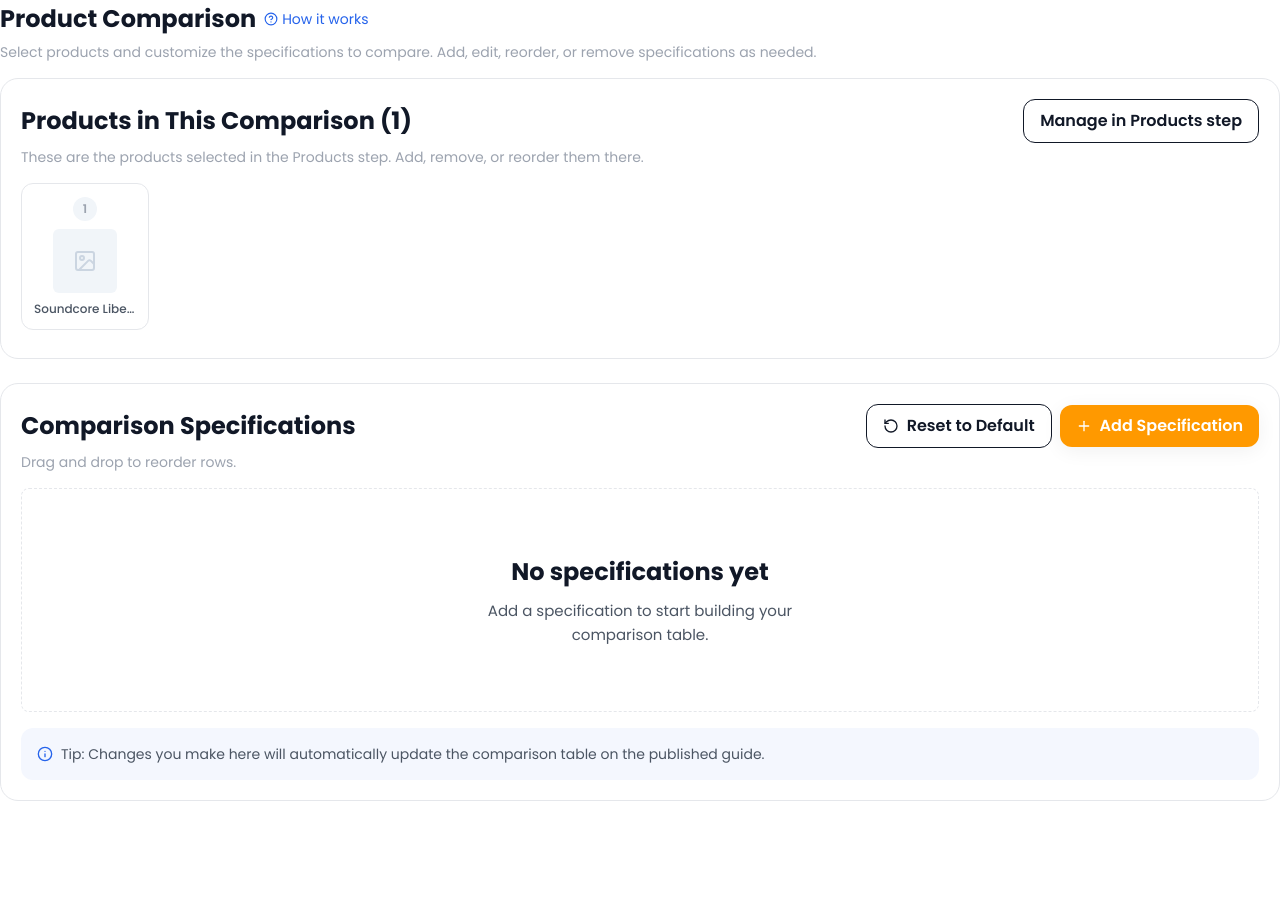
Test: BuyingGuideComparisonStep › toggles the How it works panel
Check: the text "each product appears as a column" is not shown
Click the button "How it works" at (316, 19), box [264,9,368,29]
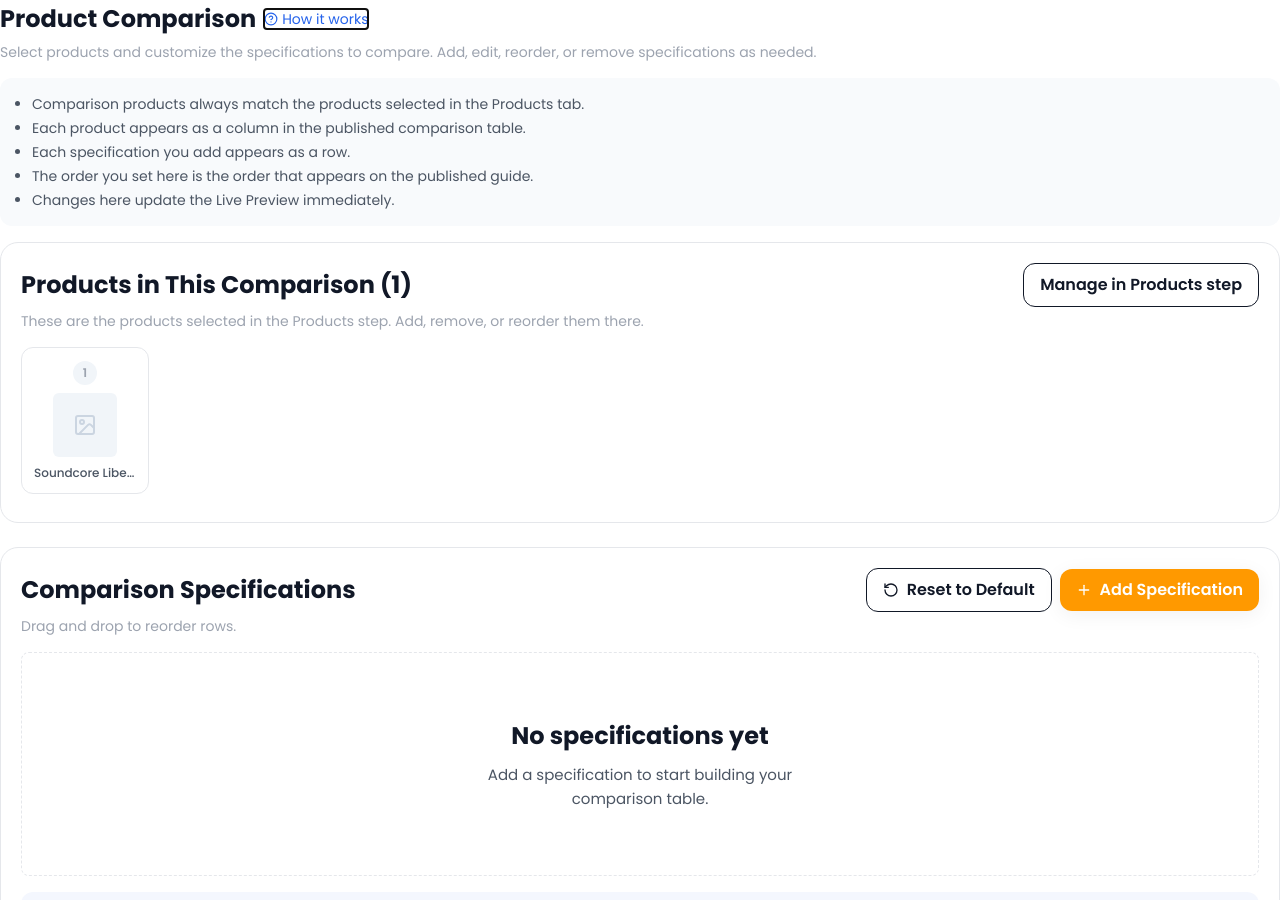
Check: the list item "Each product appears as a column" is shown, box [32,118,526,138]
